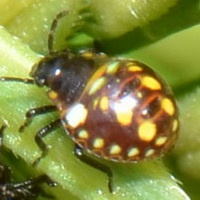insect: (0, 11, 189, 199)
